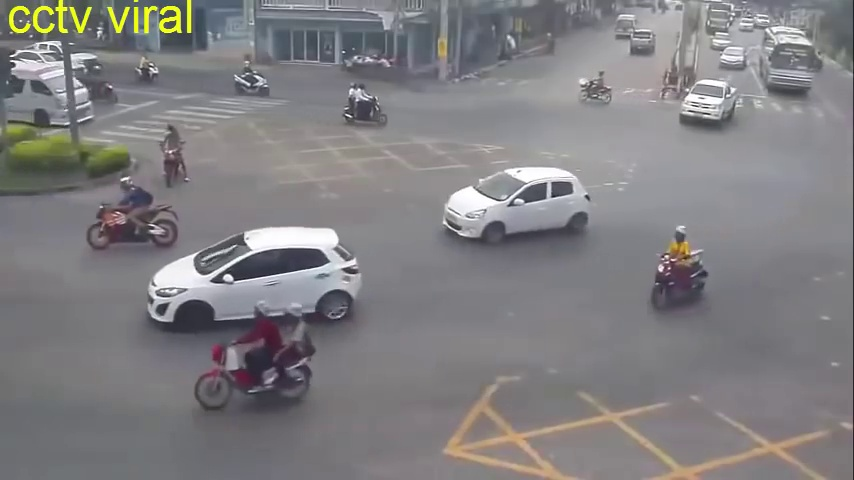car: (146, 224, 358, 327), (445, 166, 589, 236), (762, 25, 812, 95), (681, 78, 734, 125), (719, 43, 745, 72), (629, 29, 654, 55)
motorbike: (200, 300, 316, 417), (87, 182, 179, 249), (655, 224, 709, 317), (341, 81, 385, 127), (162, 125, 189, 188), (232, 61, 271, 98), (582, 70, 614, 107), (135, 54, 159, 84)
